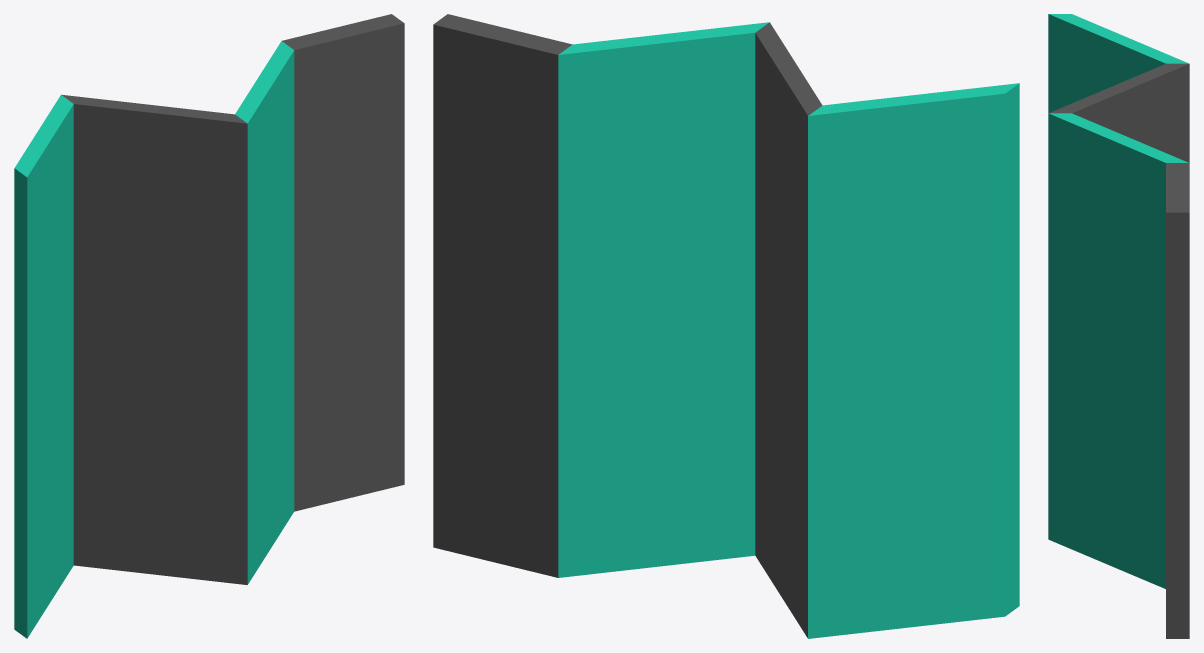
The model's file is pamphlet.glb.
3 views of the same model, side by side, from view 1: azimuth 30°, elevation 25°; view 2: azimuth 150°, elevation 25°; view 3: azimuth 270°, elevation 25° (orthographic). The views are drawn at different scales.
Parts seen in each view (by area): view 1: pamphlet; view 2: pamphlet; view 3: pamphlet.
Part boxes in pixels (bbox=[...]): pamphlet: bbox=[14, 14, 404, 638]; pamphlet: bbox=[433, 14, 1019, 638]; pamphlet: bbox=[1048, 14, 1189, 638].
Size of the model in its own units: 2 by 2 by 0.6.
